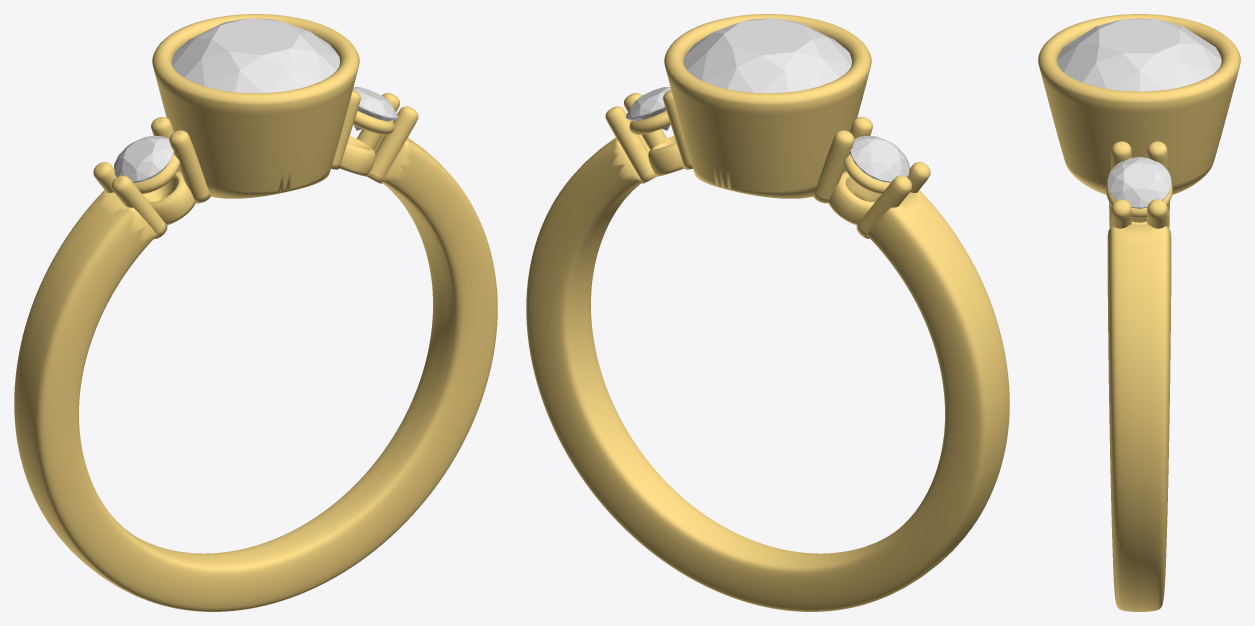
The model's file is diamond-round-yellowgold-bezelset-straightband-2stone.glb.
3 renders of one model, left to right at view 1: azimuth 30°, elevation 25°; view 2: azimuth 150°, elevation 25°; view 3: azimuth 270°, elevation 25°, orthographic. The views are drawn at different scales.
Parts seen in each view (by area): view 1: metal, stone, side.001, side; view 2: metal, stone, side.001, side; view 3: metal, stone, side.
Boxes of the visible parts, bbox=[...] form: metal: bbox=[14, 14, 497, 611]; stone: bbox=[172, 18, 339, 93]; side.001: bbox=[114, 136, 173, 182]; side: bbox=[353, 87, 397, 130]; metal: bbox=[526, 14, 1009, 611]; stone: bbox=[684, 18, 851, 93]; side.001: bbox=[850, 136, 909, 182]; side: bbox=[626, 87, 670, 130]; metal: bbox=[1038, 14, 1240, 611]; stone: bbox=[1057, 18, 1221, 91]; side: bbox=[1107, 157, 1171, 208].
Bounding box in the file's own units: 20.51 × 23.81 × 7.94.
